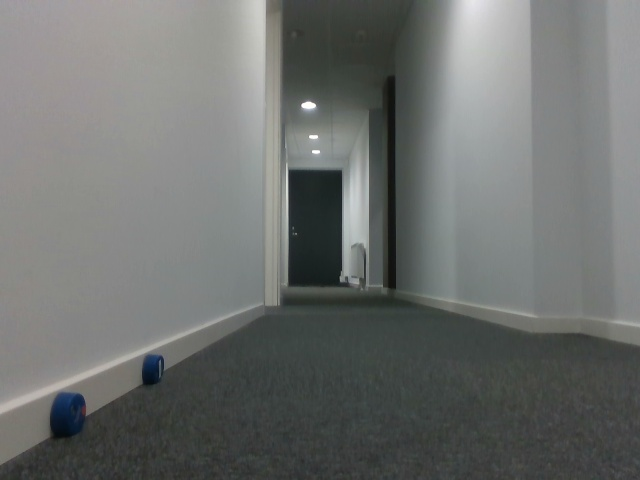alfa: (47, 390, 86, 439), (141, 351, 164, 388)
